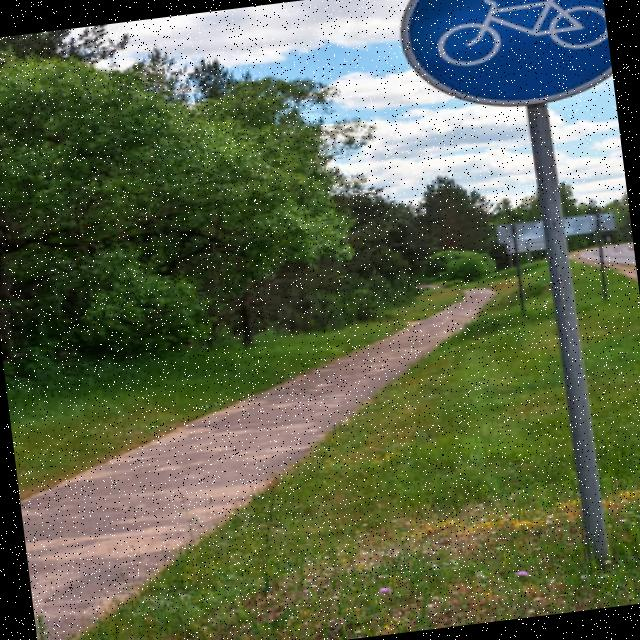bicycle: (385, 0, 614, 123)
